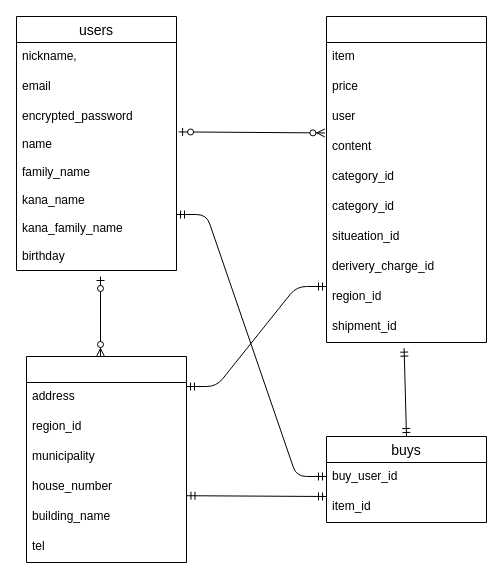
Some shapes in this 503 by 579 pixel diagram are drawn without their labels. The shapes that lost their labels are listed below. From the top down, each one's box as (x1, y1, x2, y2) in pixels, then its label:
(326, 16, 486, 342): items
(26, 356, 186, 562): orders
